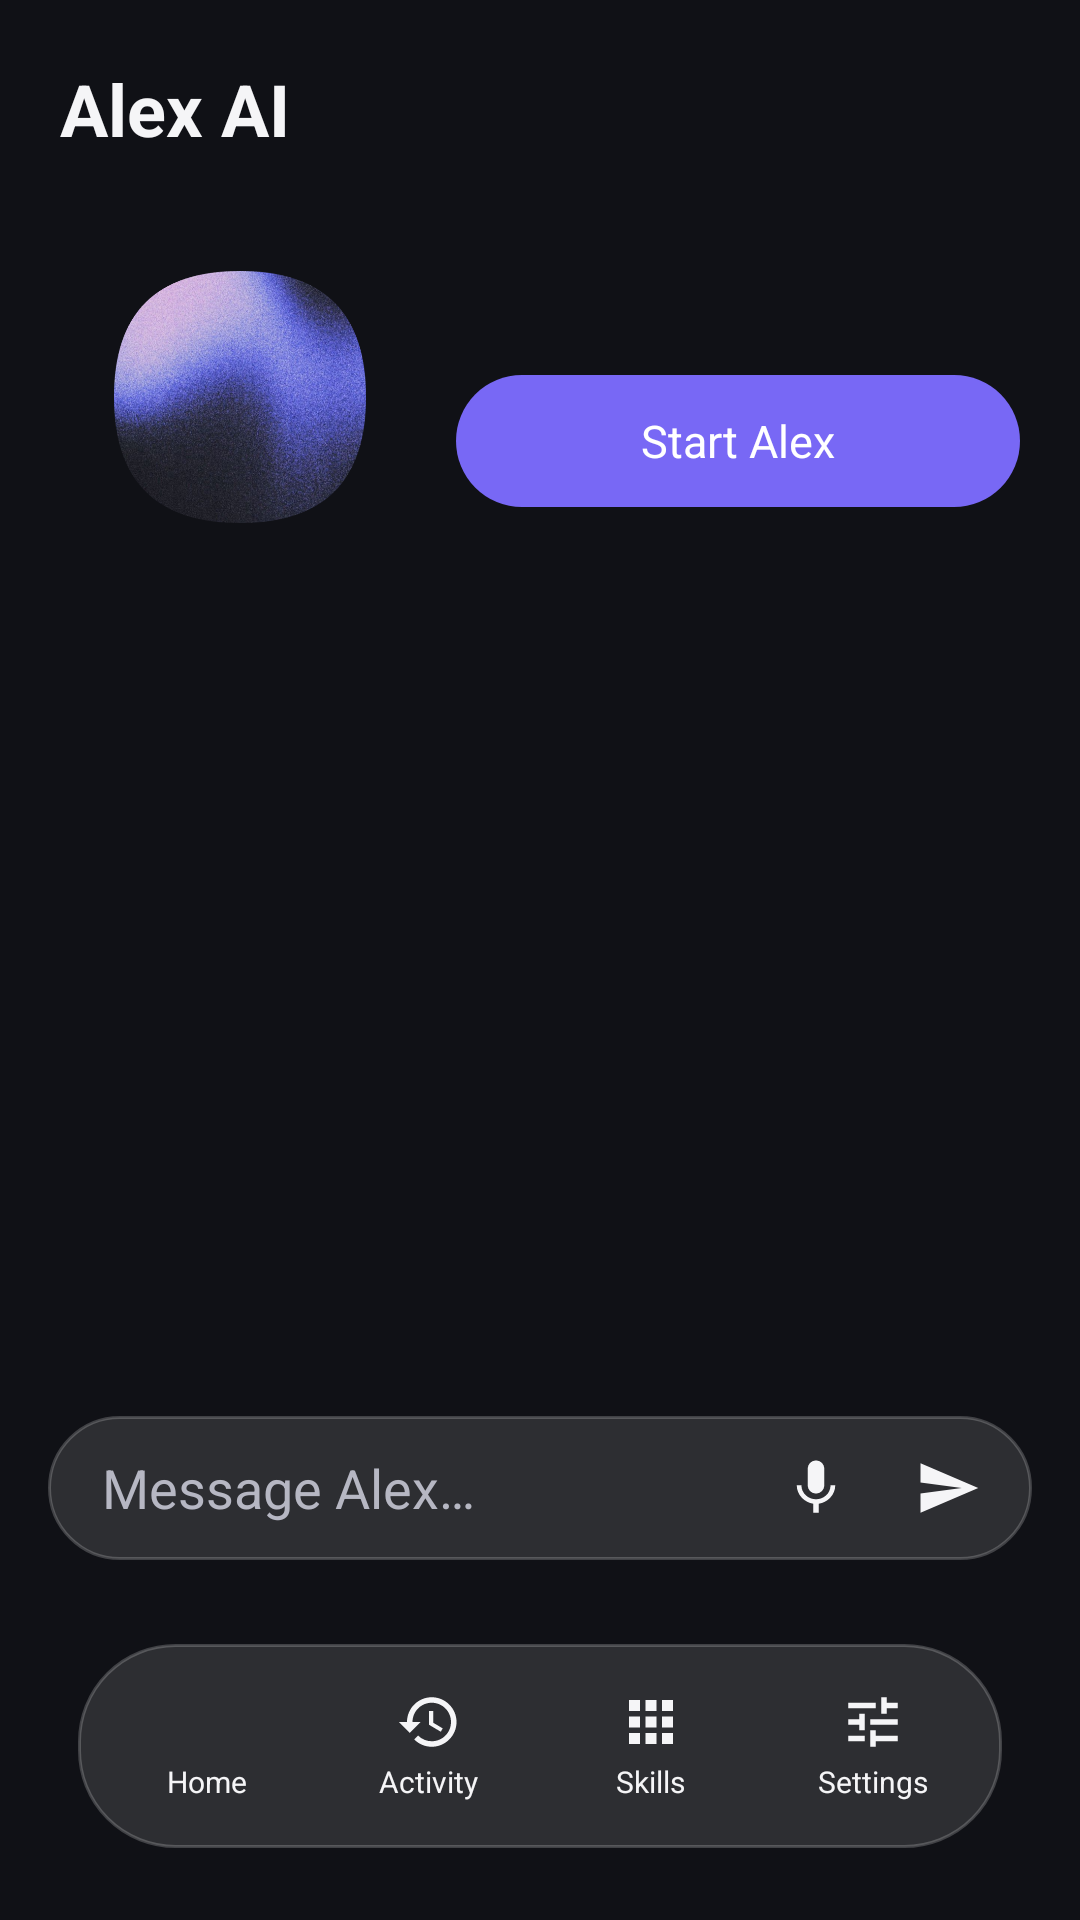

Icons on this 1080px x 1920px Android screen, each with its box as box(x1, y1, x2, y2):
apps: box(629, 1700, 673, 1744)
history: box(399, 1697, 457, 1747)
Send message: box(920, 1463, 978, 1513)
Speak to Alex: box(796, 1460, 836, 1513)
tune: box(848, 1697, 898, 1747)
